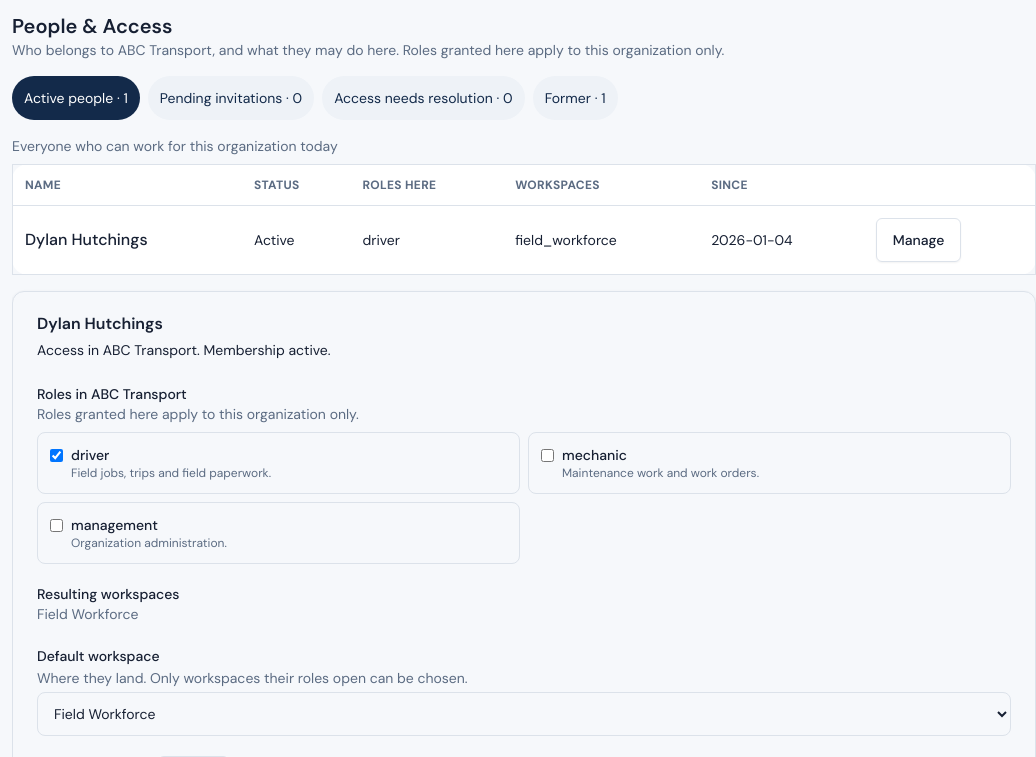
Person detail › previews the workspaces the ticked roles open, and updates as they change
This screenshot has width=1036, height=757.
Expected: the text "Field Workforce" is shown, [37, 605, 138, 623]
Click the checkbox labelled "mechanic Maintenance work and work orders.": (548, 456) [541, 449, 554, 462]
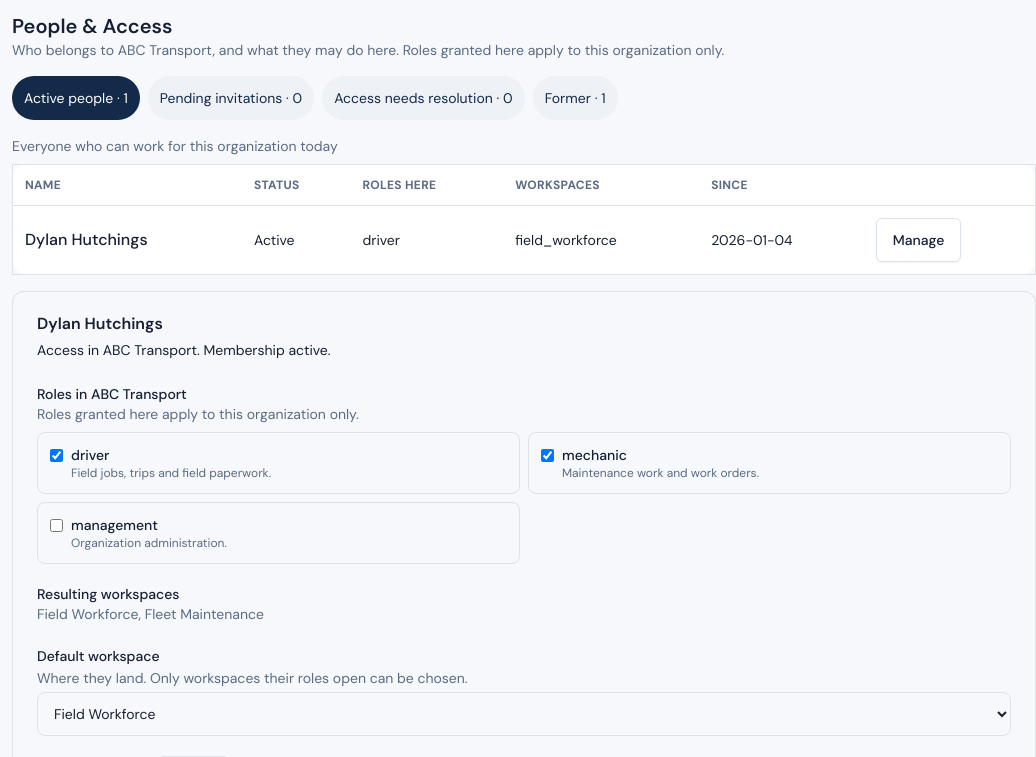
Expected: the text "Field Workforce, Fleet Maintenance" is shown, [37, 605, 264, 623]
Untick everything and the screen says what that means rather than going blank.
Click the checkbox labelled "driver Field jobs, trips and field paperwork.": (56, 456) [50, 449, 63, 462]
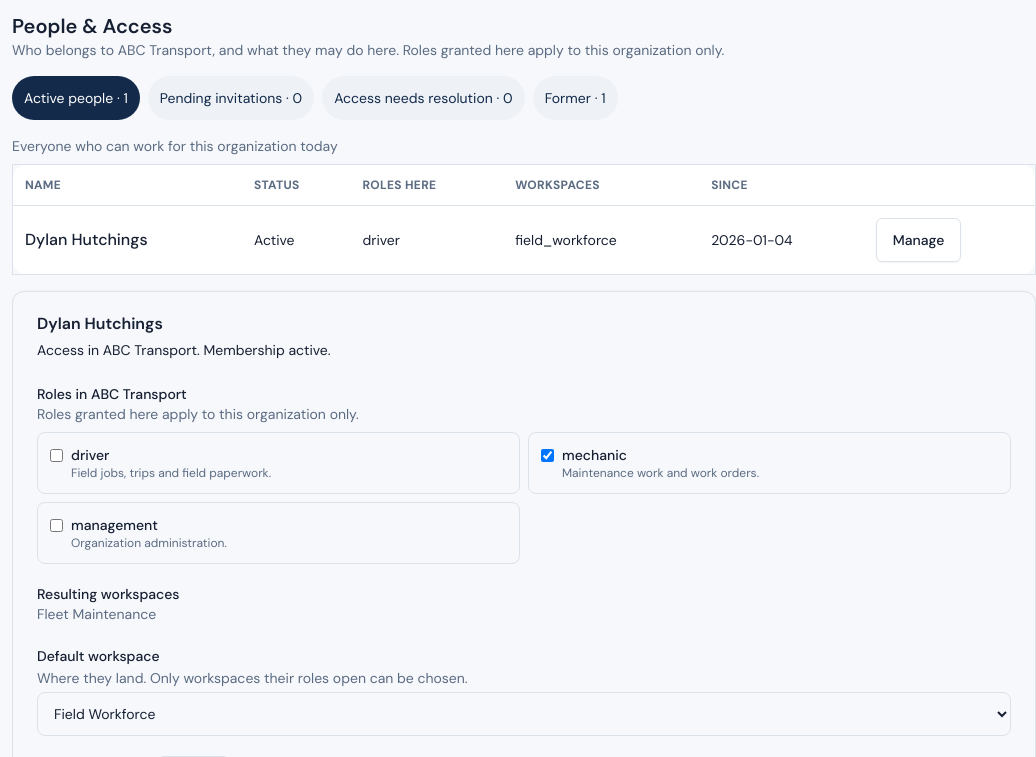
Click the checkbox labelled "mechanic Maintenance work and work orders.": (548, 456) [541, 449, 554, 462]
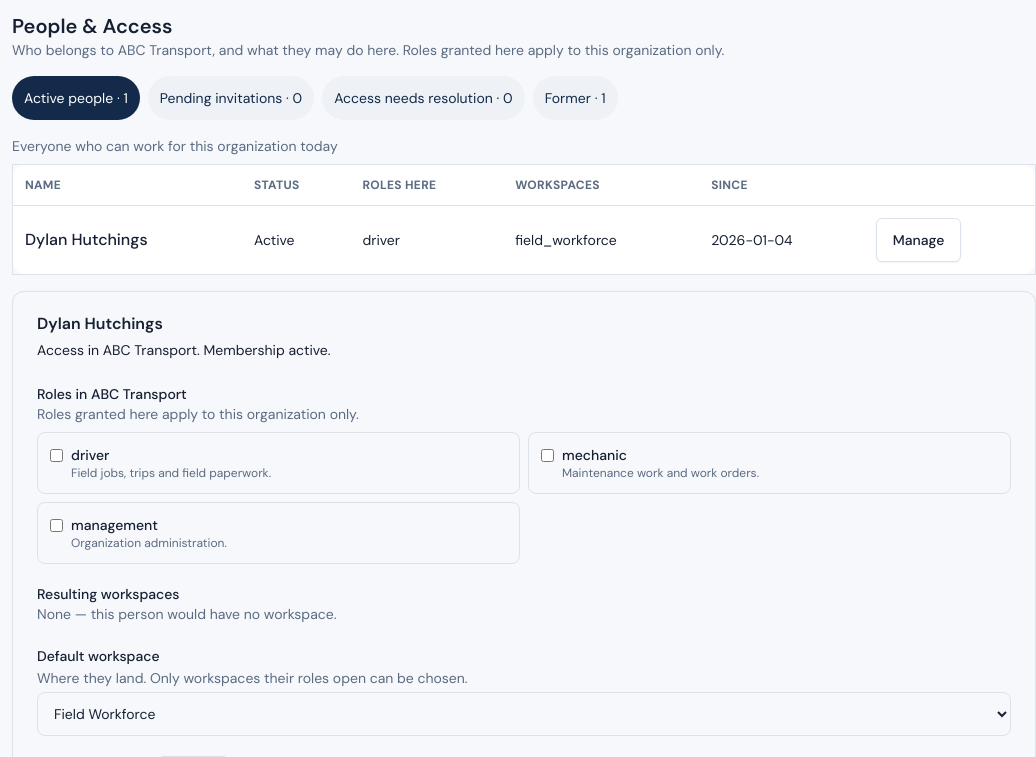
Expected: the text "None — this person would have no workspace." is shown, [37, 605, 336, 623]
